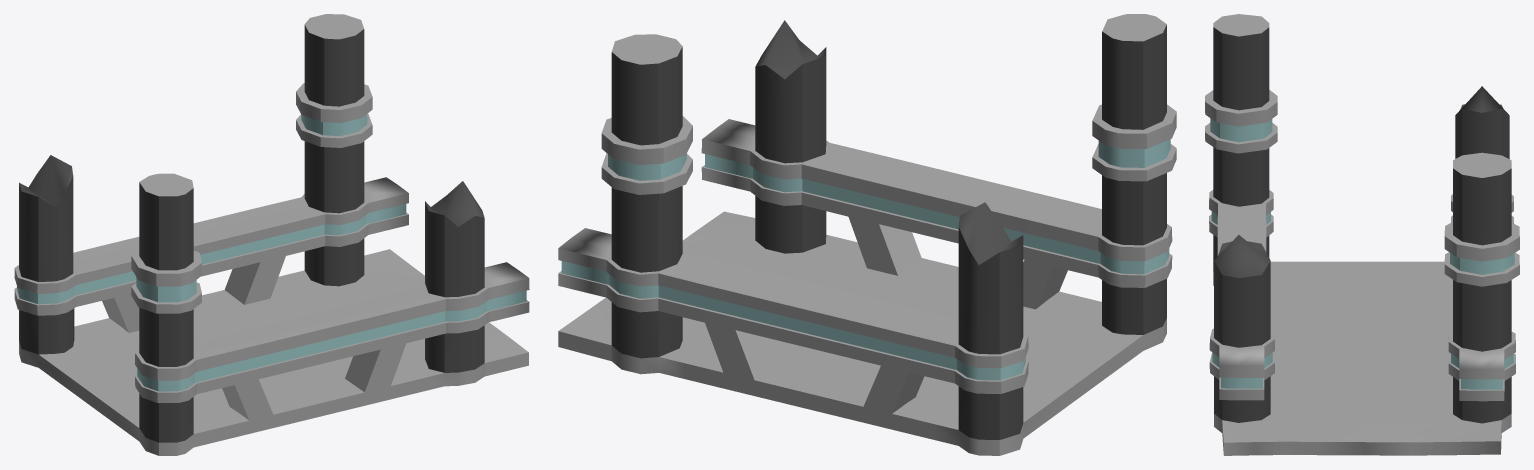
The model's file is puente modular var 2.fbx.
The picture shows the model from 3 angles, left to right: view 1: azimuth 30°, elevation 25°; view 2: azimuth 150°, elevation 25°; view 3: azimuth 270°, elevation 25°; orthographic projection. The views are drawn at different scales.
Visible parts, largest first — view 1: broken_bridge_modular; view 2: broken_bridge_modular; view 3: broken_bridge_modular.
Part boxes in pixels (<box>): broken_bridge_modular: <box>14,14,529,455</box>; broken_bridge_modular: <box>558,14,1176,455</box>; broken_bridge_modular: <box>1205,14,1519,455</box>.
Size of the model in its own units: 2.47 by 1.6 by 1.76.
